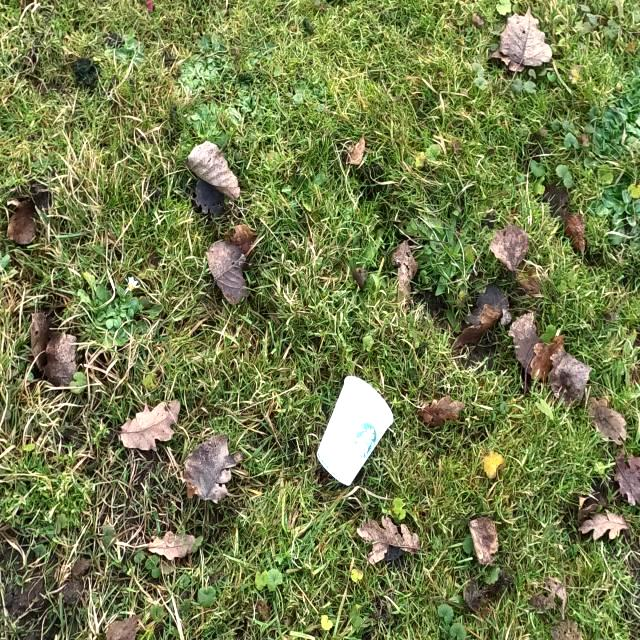Coffee Cup: (317, 373, 391, 485)
